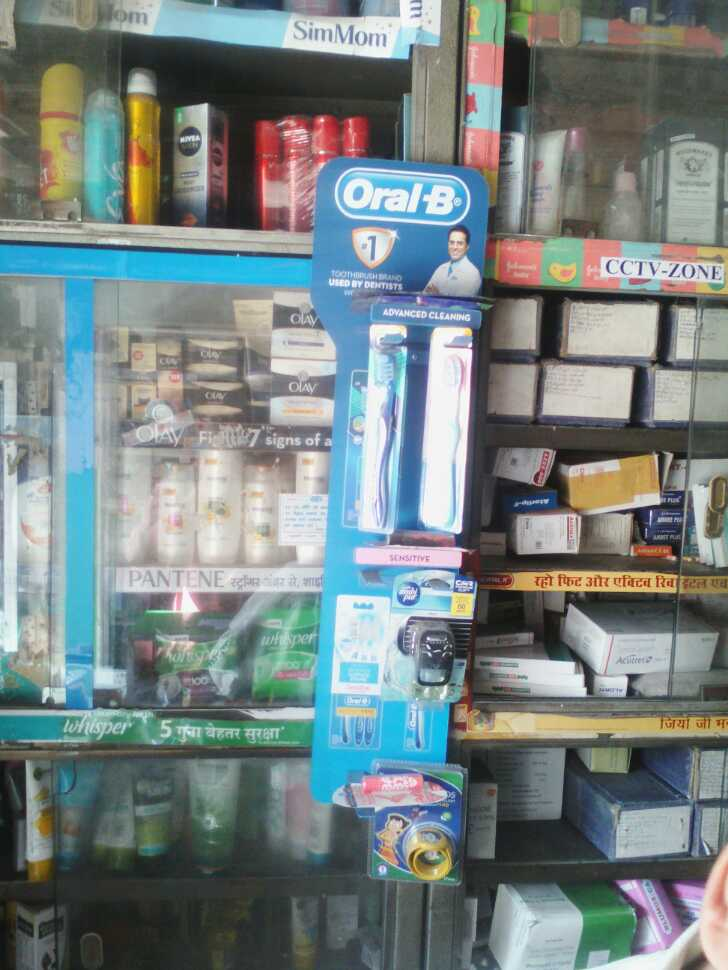beauty: (103, 448, 155, 571), (196, 448, 243, 563), (152, 460, 198, 567), (268, 359, 337, 429), (275, 293, 339, 358), (244, 461, 283, 563), (181, 338, 240, 379), (188, 379, 239, 426), (159, 366, 183, 427)
home: (387, 567, 477, 693)
pharmacy: (420, 326, 474, 527), (358, 321, 398, 535), (247, 611, 331, 705), (154, 630, 248, 705)
